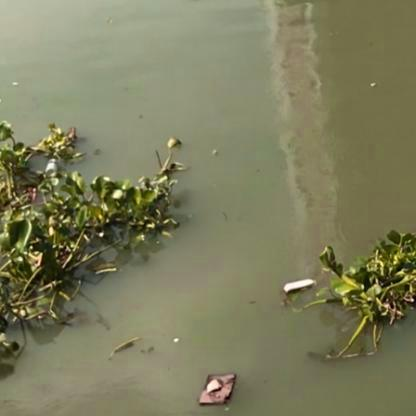Metal: (44, 154, 62, 179)
Trash: (280, 273, 316, 297)
